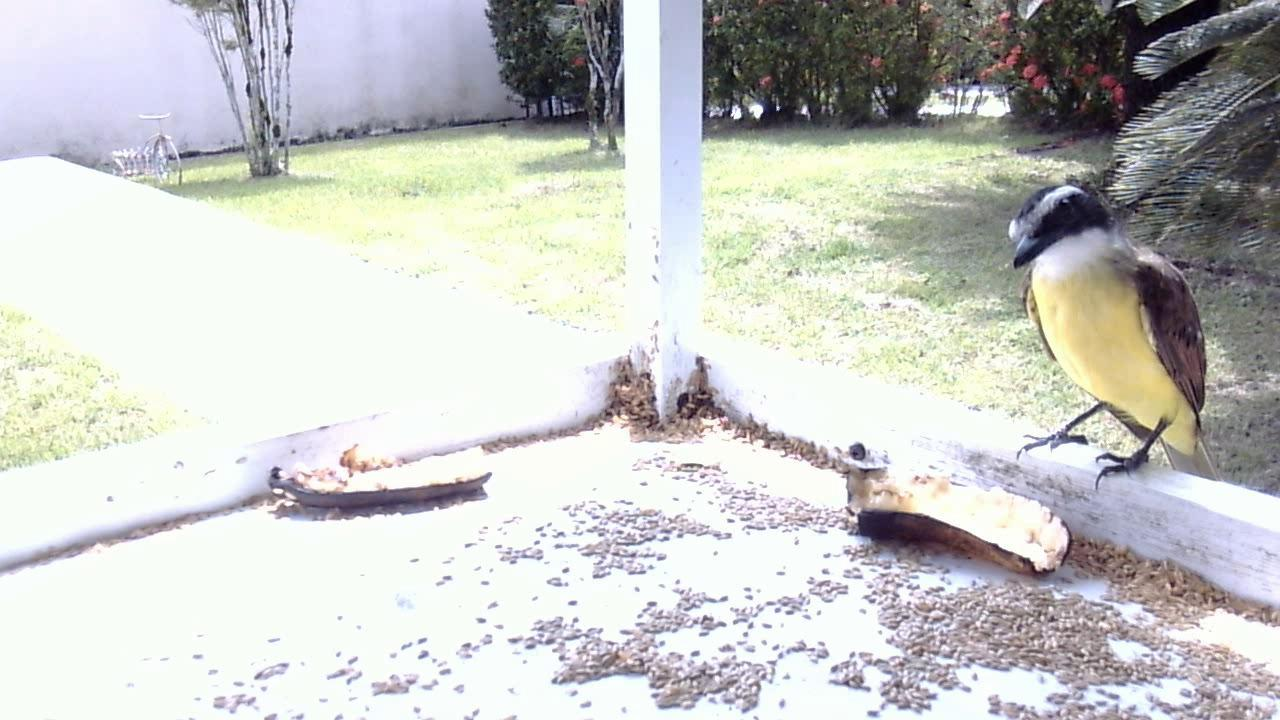bem_te_vi: (1002, 174, 1226, 502)
